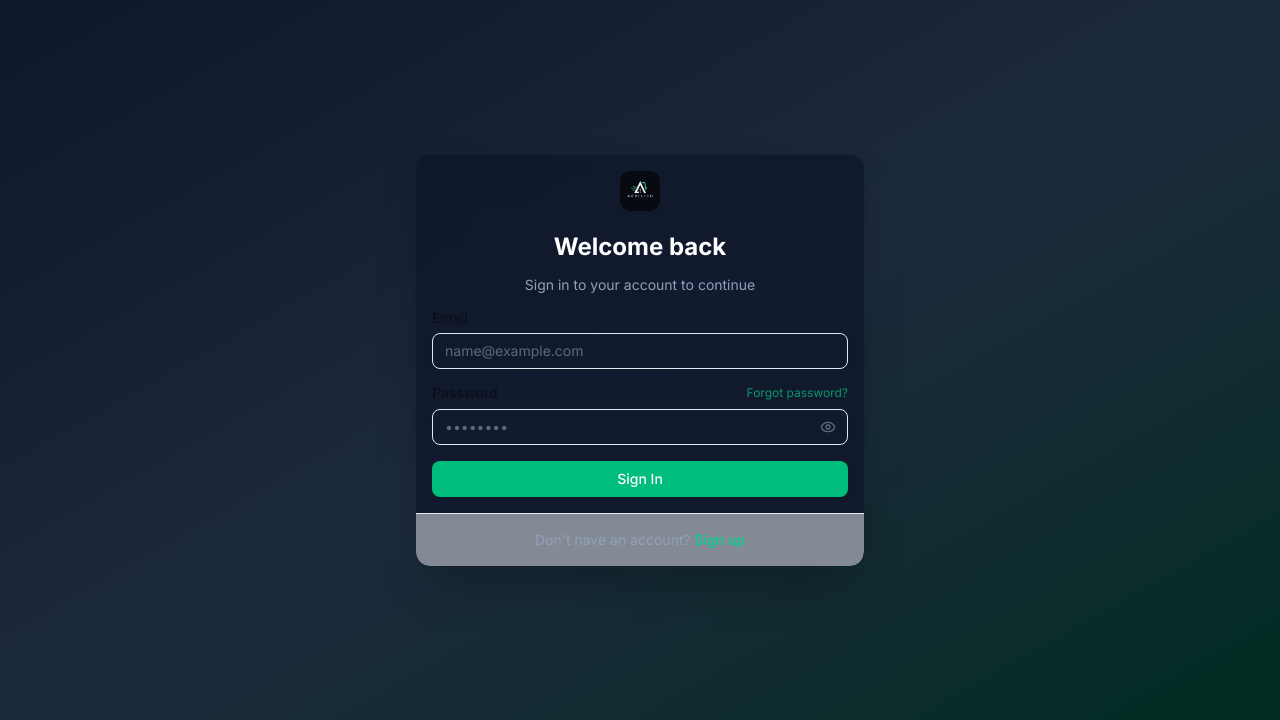
it: Login Page – Validation › email only (no password) shows password required
Type "test@test.com" into the field labelled "Email" at {"x": 640, "y": 351}, box [432,333,848,369]
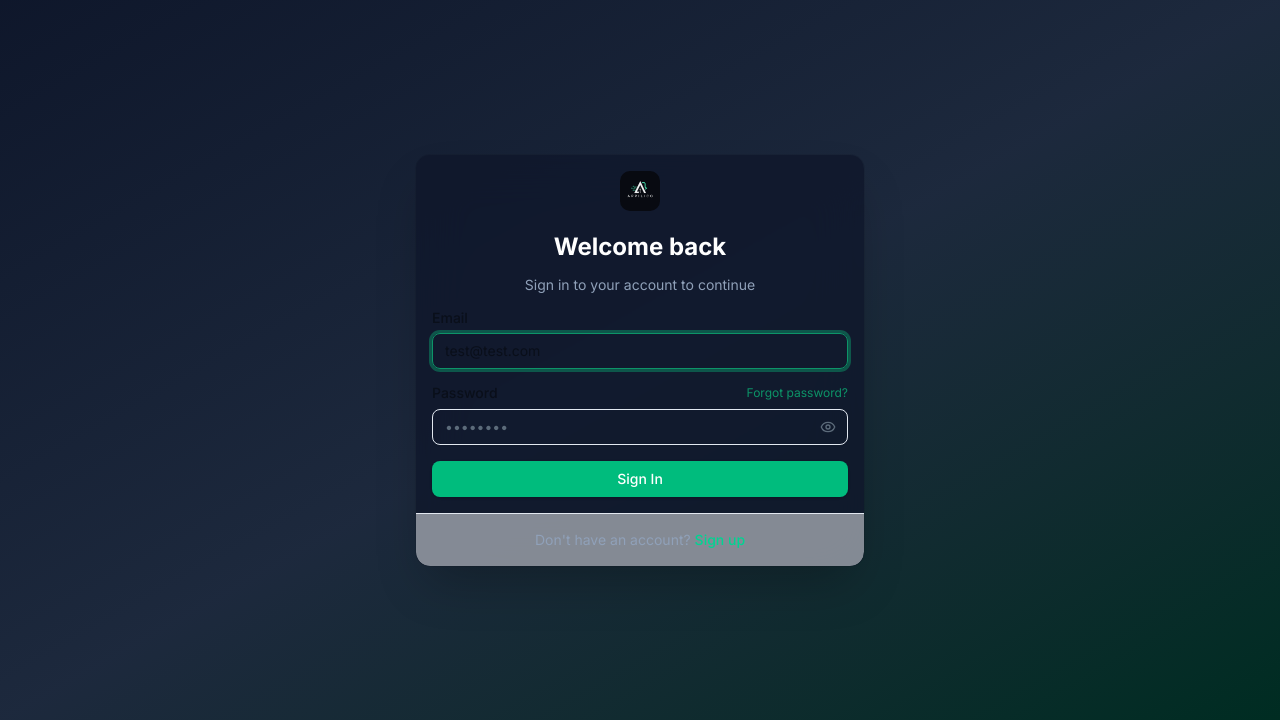
Click the submit button at {"x": 640, "y": 479}, box [432,461,848,497]
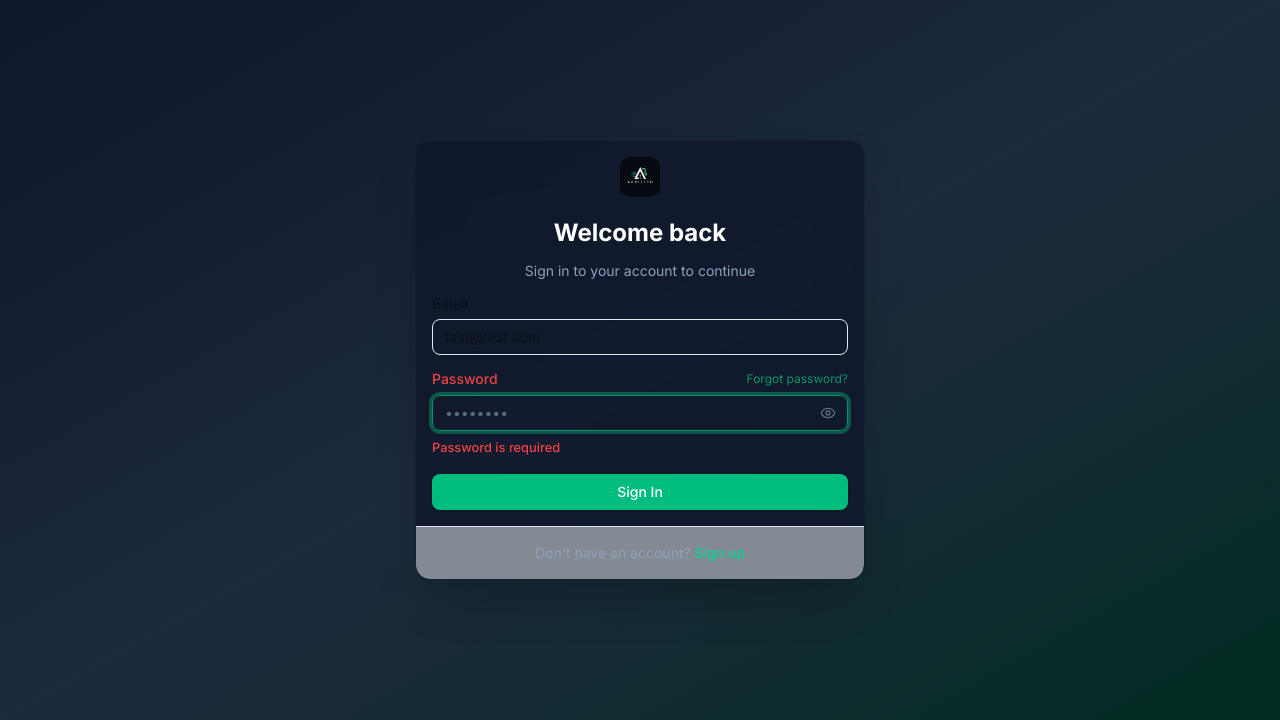
Expected: the text "Password is required" is shown, [432,440,560,455]
